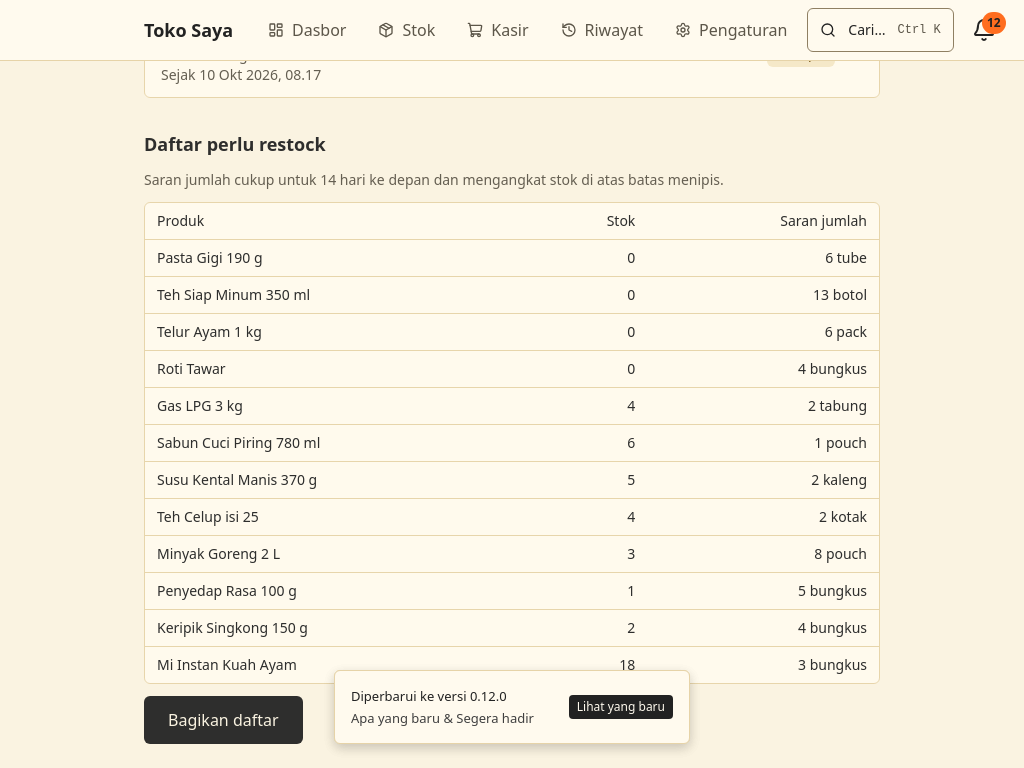
it: Bagikan daftar › memakai navigator.share bila ada, dengan teks tanpa harga beli
The image size is (1024, 768).
(page scrolled)
Step 1. Click the button "Bagikan daftar" → (223, 720), box [144, 696, 303, 744]
(page scrolled)
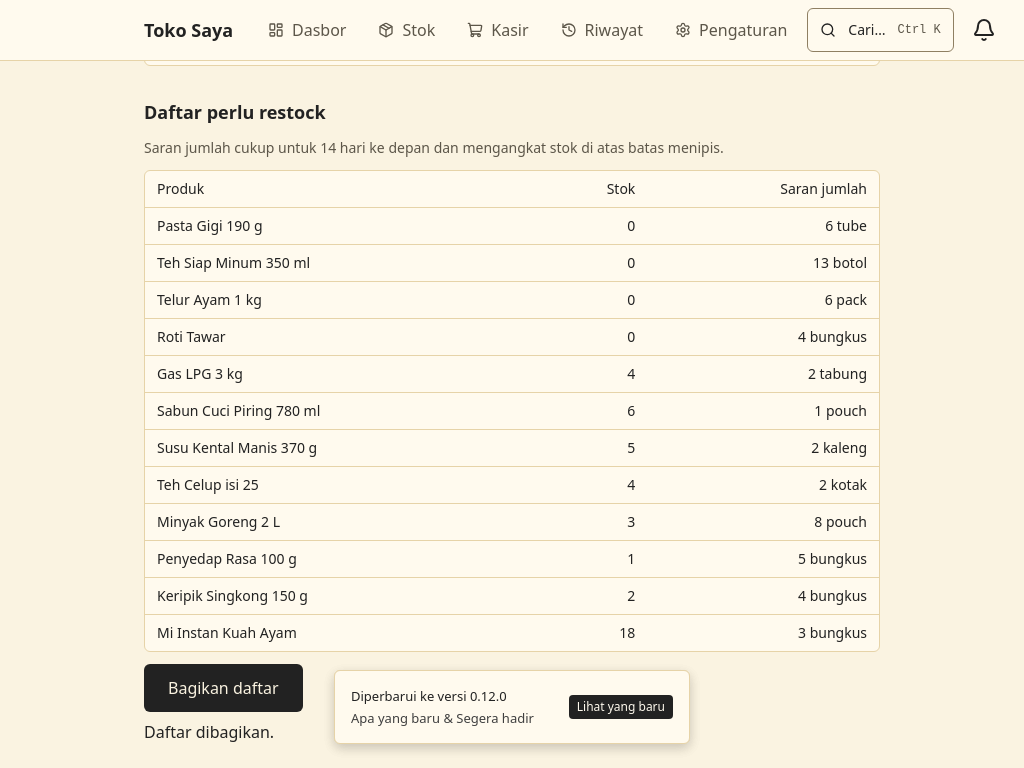
Expected: the text "Daftar dibagikan." is shown, [144, 721, 274, 743]
